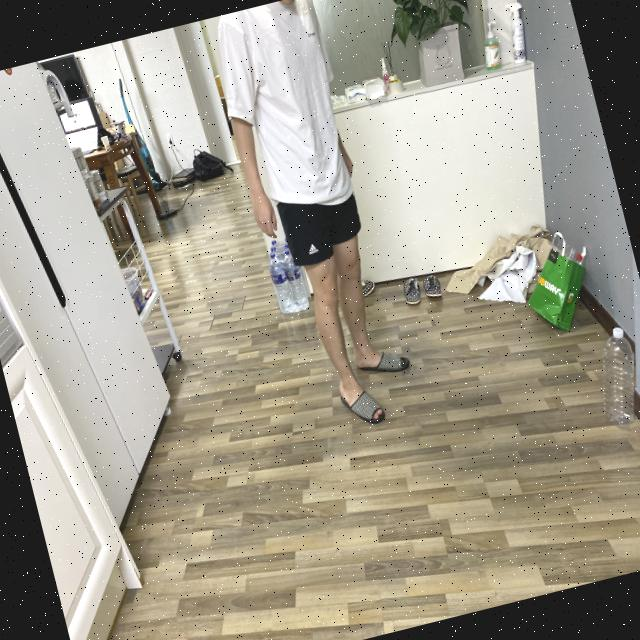no-boots: (323, 368, 394, 455), (342, 326, 422, 398)
